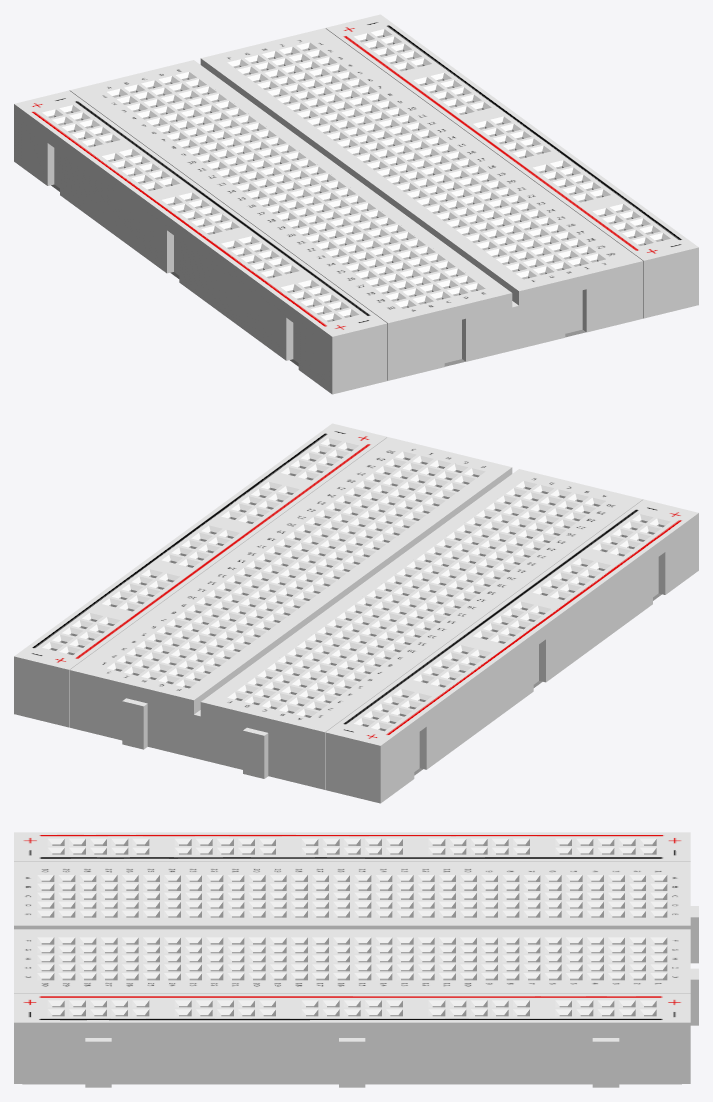
Rendered from breadboard.glb.
The picture shows the model from 3 angles, top to bottom: view 1: azimuth 30°, elevation 25°; view 2: azimuth 150°, elevation 25°; view 3: azimuth 270°, elevation 25°; orthographic projection. The views are drawn at different scales.
Visible parts, largest first — view 1: Breadboard; view 2: Breadboard; view 3: Breadboard, Adhesive.
Boxes of the visible parts, left/top/right/bottom form: Breadboard: left=14, top=14, right=698, bottom=394; Breadboard: left=14, top=423, right=698, bottom=803; Breadboard: left=14, top=832, right=698, bottom=1087; Adhesive: left=22, top=1084, right=681, bottom=1084.
Bounding box in the file's own units: 0.0542 × 0.0085 × 0.081.
3 materials, 1 textured.
